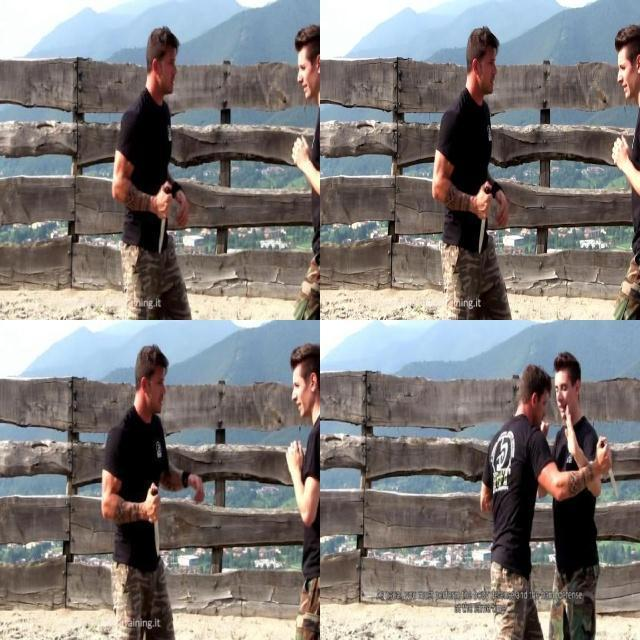-: (596, 432, 619, 499), (145, 481, 163, 559), (155, 179, 172, 256), (475, 178, 492, 255)
